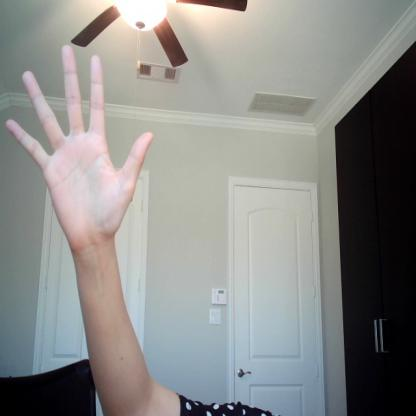five: (5, 39, 158, 258)
